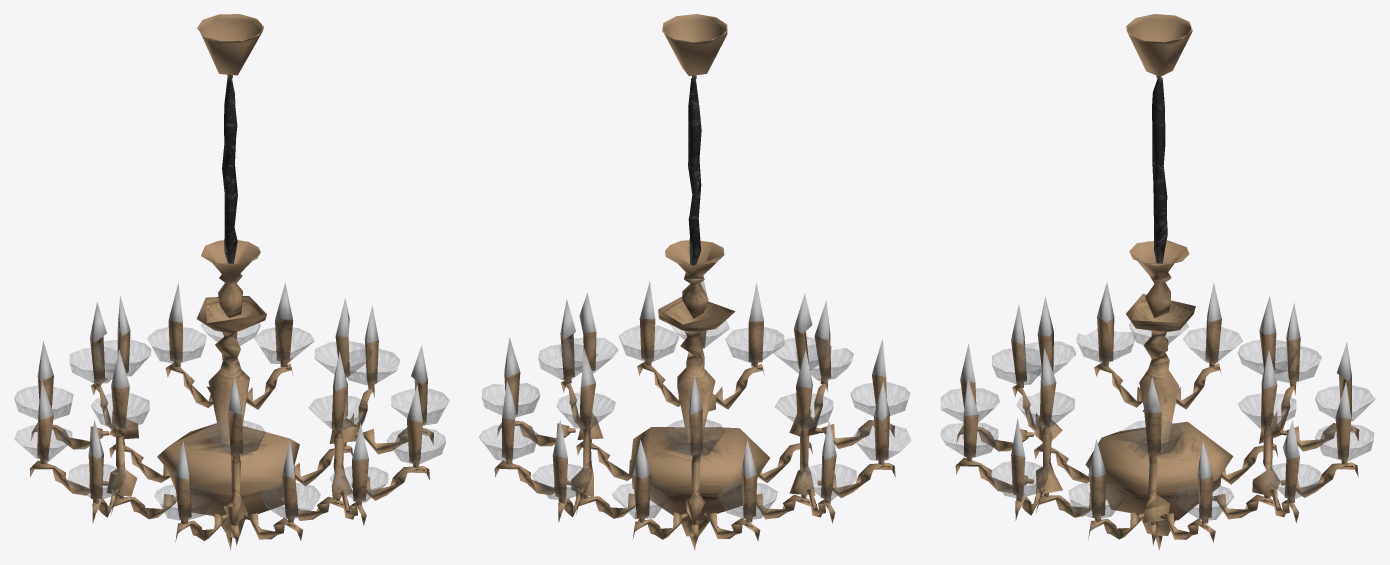
Rendered from Chandelier_03.glb.
3 renders of one model, left to right at view 1: azimuth 30°, elevation 25°; view 2: azimuth 150°, elevation 25°; view 3: azimuth 270°, elevation 25°, orthographic.
Parts seen in each view (by area): view 1: Chandelier_03; view 2: Chandelier_03; view 3: Chandelier_03.
Boxes of the visible parts, x1,y1,x2,y2 form: Chandelier_03: [14, 14, 449, 550]; Chandelier_03: [479, 14, 910, 550]; Chandelier_03: [940, 14, 1374, 550].
Bounding box in the file's own units: 0.7787 × 1.04 × 0.7845.
Materials: 2 (2 with a texture image).
